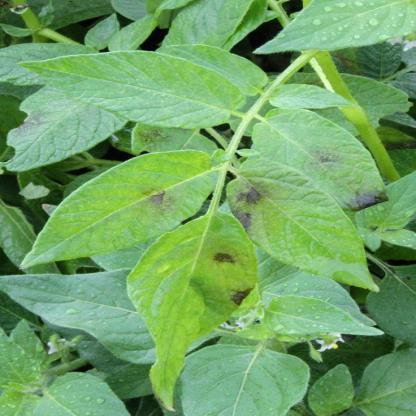Potato leaf: (131, 215, 265, 412), (219, 152, 390, 292), (32, 147, 218, 255), (240, 105, 398, 217)
